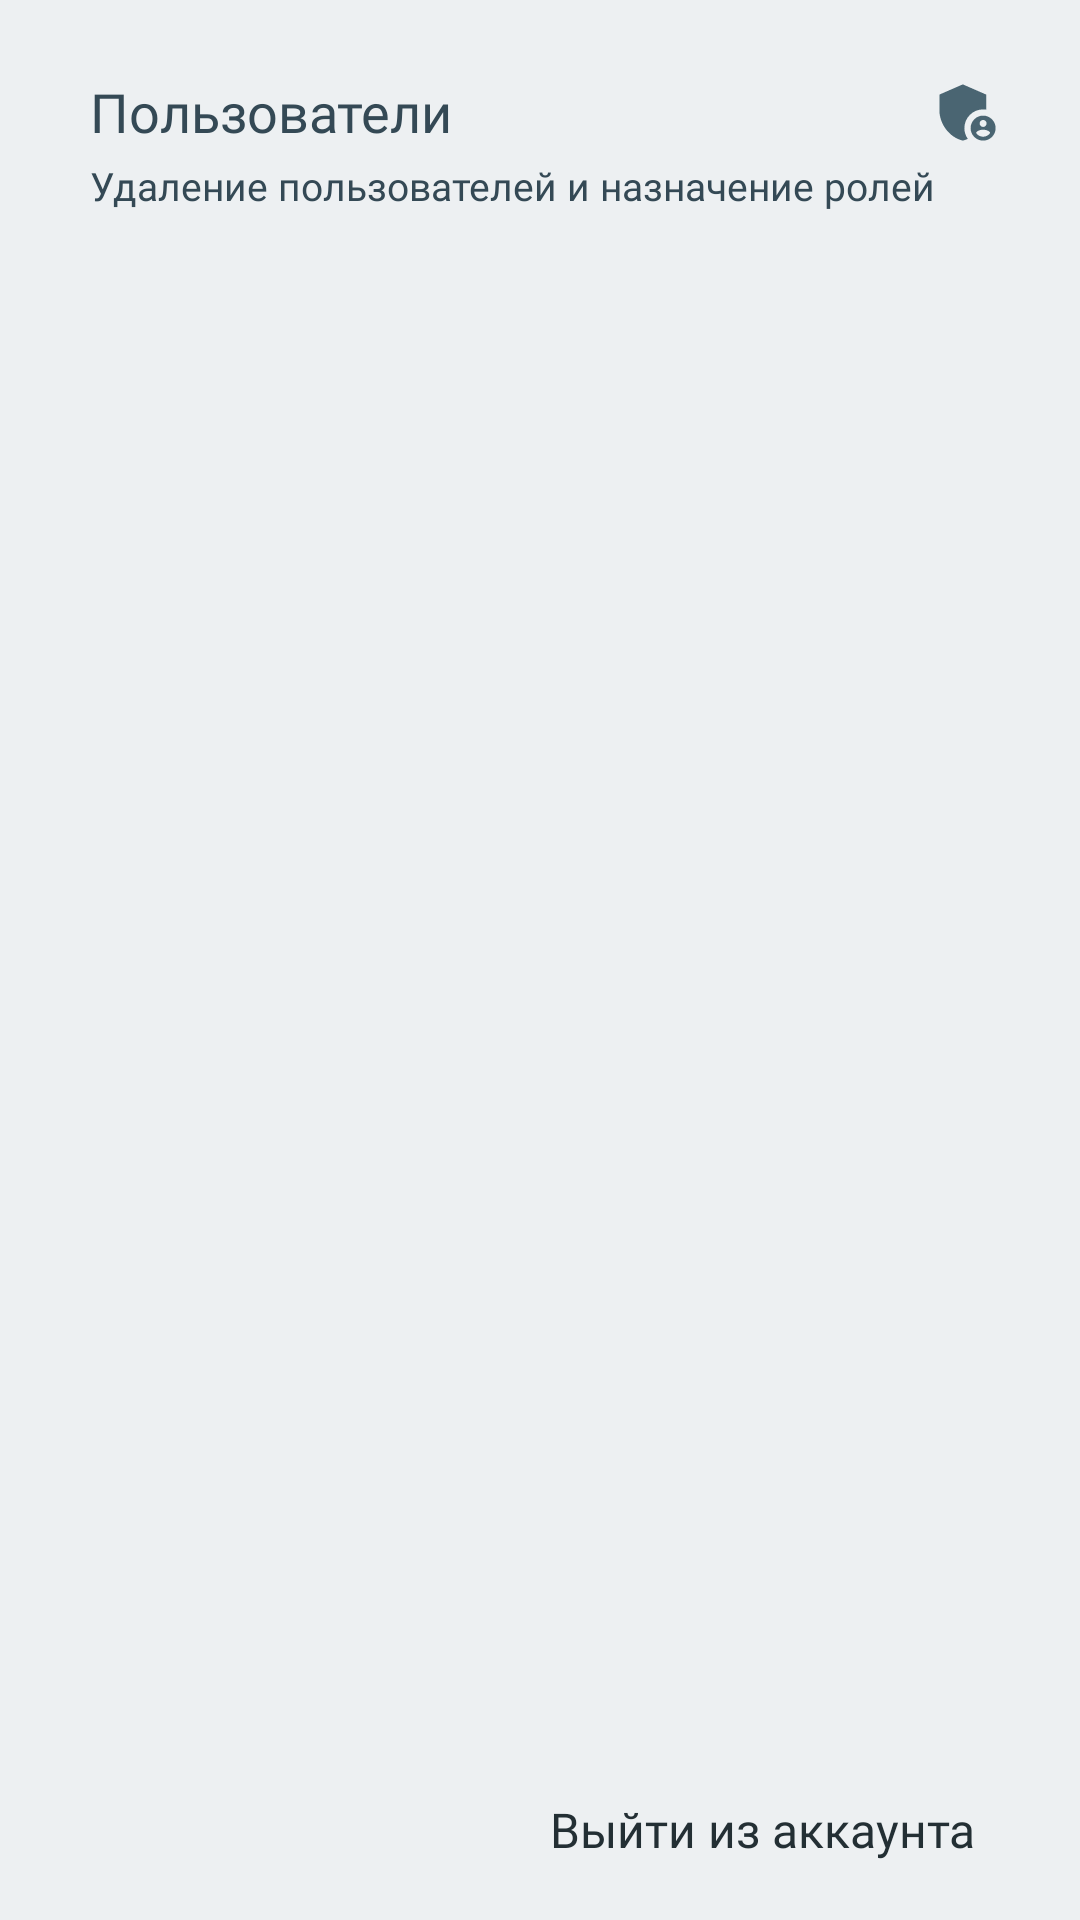

Screen size 1080px×1920px. Icon name, then its box in pixels as (x1, y1, x2, y2):
admin settings: (939, 84, 996, 141)
